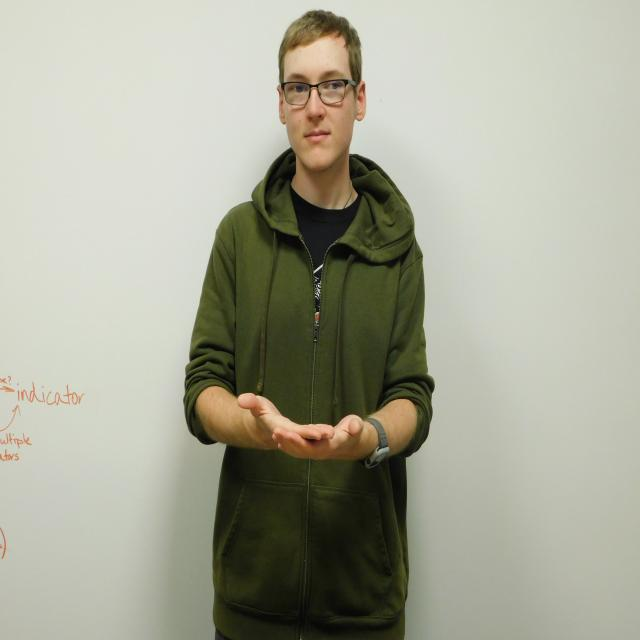good: (238, 393, 366, 461)
